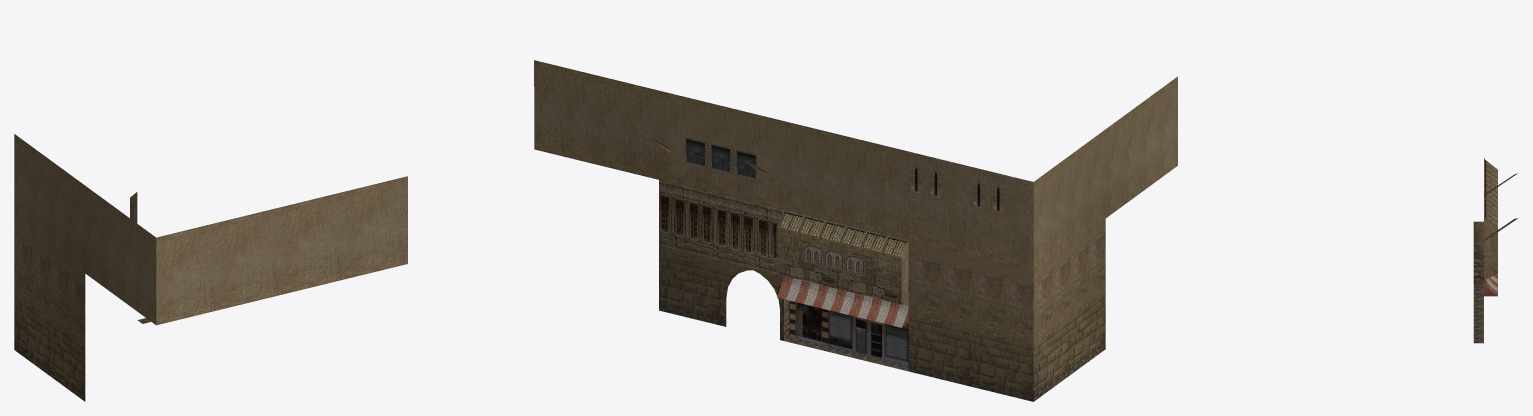
Rendered from M7Z1_CityWall2D.glb.
The picture shows the model from 3 angles, left to right: view 1: azimuth 30°, elevation 25°; view 2: azimuth 150°, elevation 25°; view 3: azimuth 270°, elevation 25°; orthographic projection. The views are drawn at different scales.
Parts seen in each view (by area): view 1: M7Z1_CITYWALL2D; view 2: M7Z1_CITYWALL2D; view 3: M7Z1_CITYWALL2D.
Part boxes in pixels (x1=…): M7Z1_CITYWALL2D: x1=14, y1=134, x2=407, y2=401; M7Z1_CITYWALL2D: x1=534, y1=60, x2=1177, y2=401; M7Z1_CITYWALL2D: x1=1473, y1=158, x2=1517, y2=343.
Size of the model in its own units: 32 by 13.47 by 17.99.
13 materials, 13 textured.
